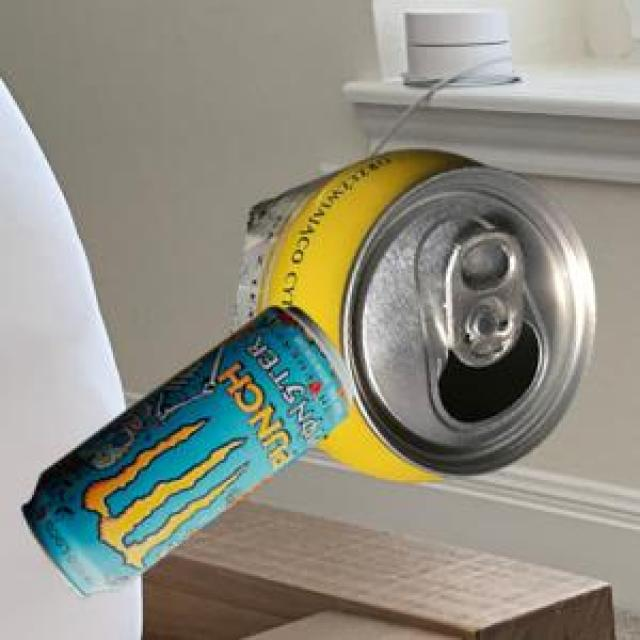logam: (229, 146, 592, 479), (20, 304, 351, 594)
